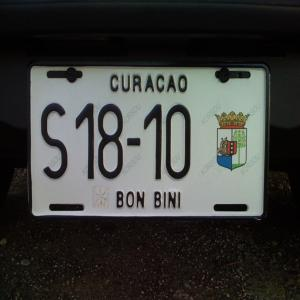Vehicle-registration-plate: (26, 56, 273, 220)
